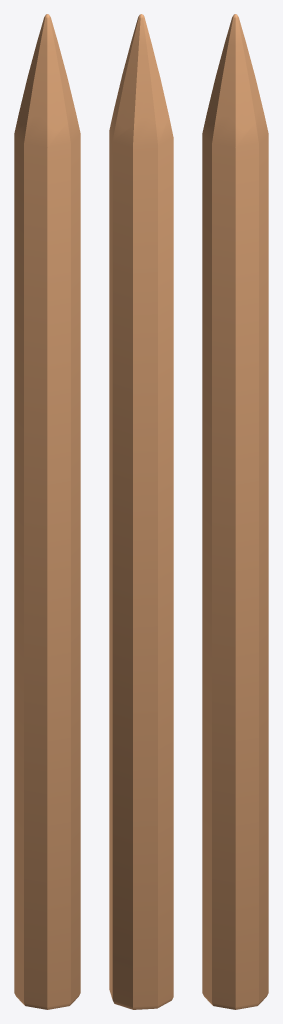
File: pencil_006.fbx
The picture shows the model from 3 angles, left to right: view 1: azimuth 90°, elevation 25°; view 2: azimuth 210°, elevation 25°; view 3: azimuth 270°, elevation 25°; orthographic projection.
Visible parts, largest first — view 1: Cylinder.038; view 2: Cylinder.038; view 3: Cylinder.038.
Boxes of the visible parts, <box> form: Cylinder.038: <box>14,14,80,1009</box>; Cylinder.038: <box>109,14,173,1009</box>; Cylinder.038: <box>202,14,268,1009</box>.
Size of the model in its own units: 0.8424 by 13.76 by 0.8424.
Materials: 1 (1 with a texture image).
